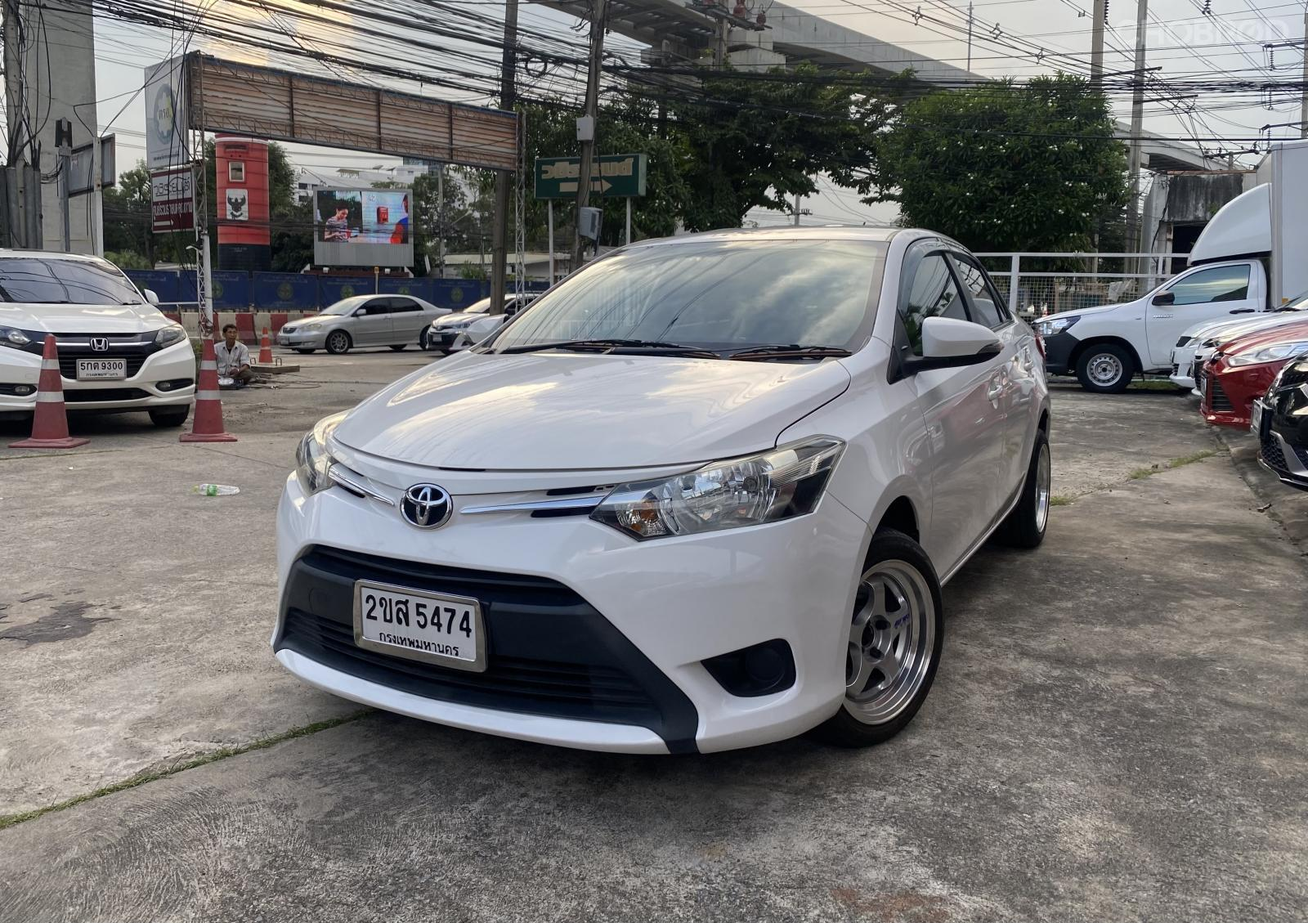license-plate: (352, 568, 487, 678), (74, 357, 129, 382)
